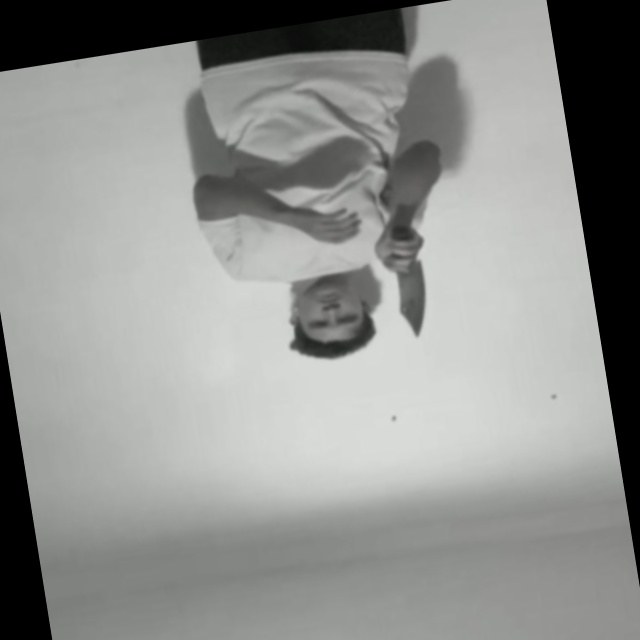Sharp-Object: (391, 264, 437, 342)
